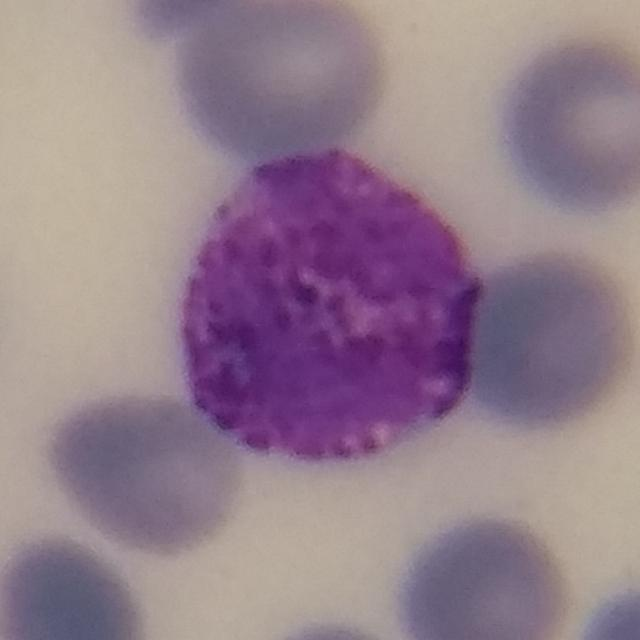Basophil: (151, 134, 501, 496)
RBC: (40, 385, 252, 558), (163, 0, 395, 158), (454, 242, 640, 439), (484, 26, 640, 222), (384, 505, 580, 640), (0, 527, 156, 640), (114, 0, 285, 43), (247, 612, 421, 640), (565, 577, 639, 640)
